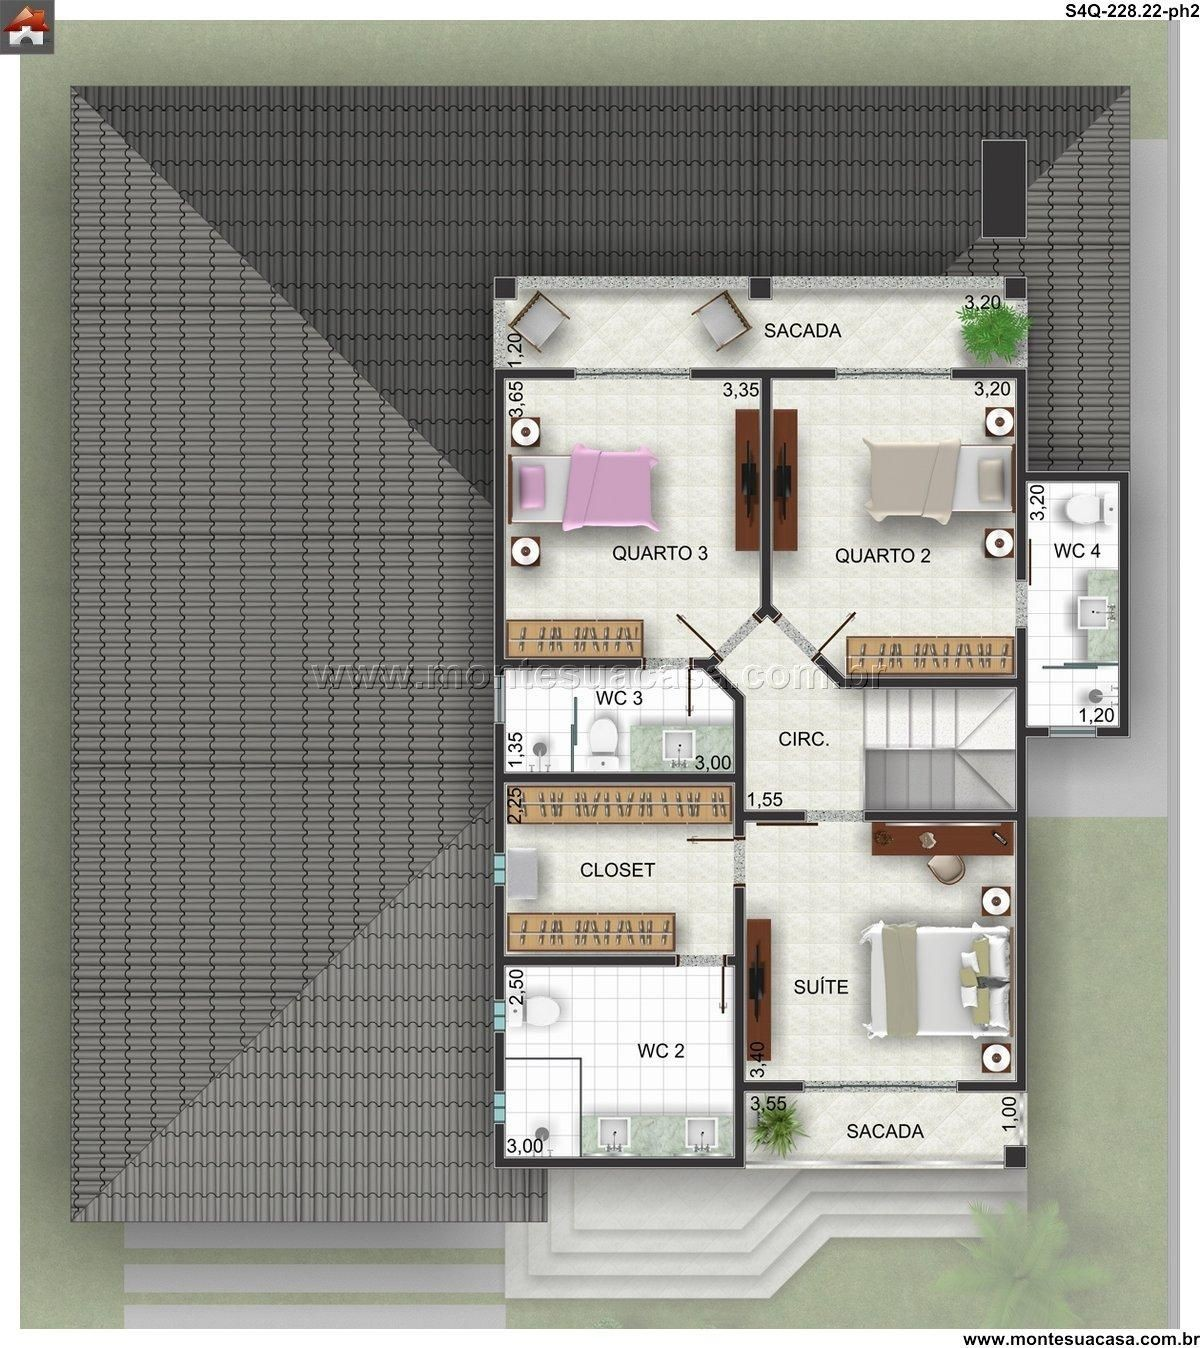room: (758, 356, 1036, 690), (486, 366, 776, 674), (729, 805, 1033, 1092), (488, 952, 748, 1175), (490, 765, 752, 970), (486, 652, 748, 792), (1009, 464, 1137, 741)
